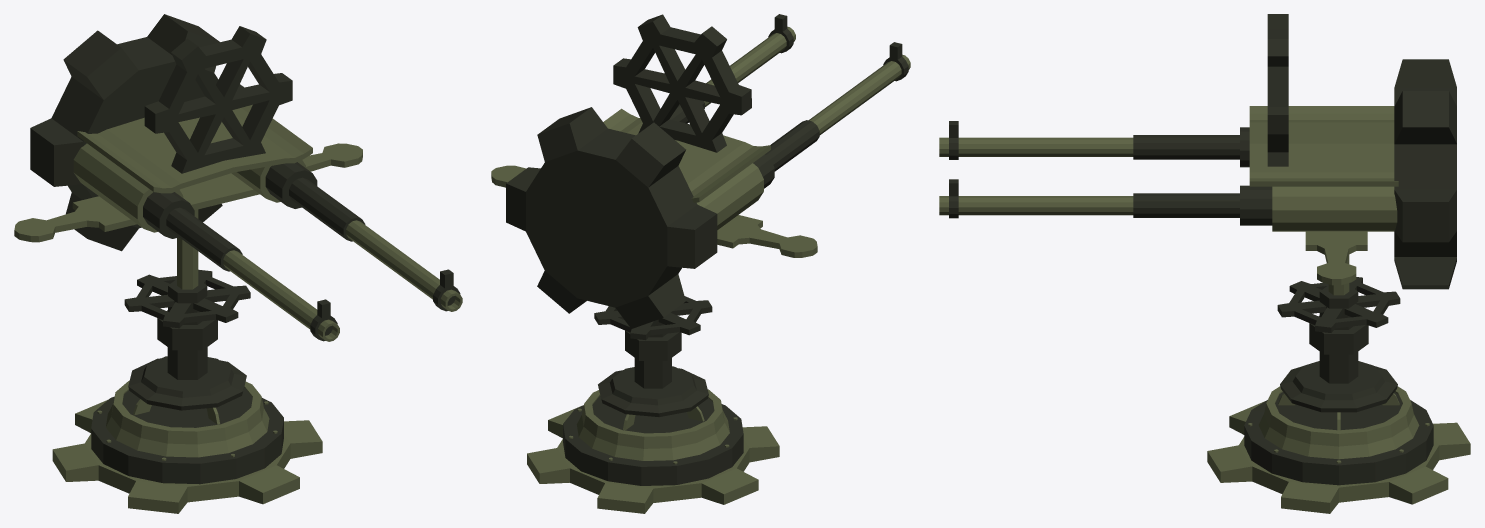
File: turret-pkm.glb
3 views of the same model, side by side, from view 1: azimuth 30°, elevation 25°; view 2: azimuth 150°, elevation 25°; view 3: azimuth 270°, elevation 25° (orthographic). The views are drawn at different scales.
Visible parts, largest first — view 1: gun, base, mid; view 2: gun, base, mid; view 3: gun, base, mid.
Boxes of the visible parts, x1,y1,x2,y2 form: gun: [14, 14, 462, 341]; base: [52, 356, 322, 513]; mid: [124, 209, 250, 379]; gun: [491, 14, 910, 328]; base: [527, 366, 779, 513]; mid: [594, 296, 712, 388]; gun: [939, 14, 1456, 289]; base: [1207, 361, 1470, 513]; mid: [1277, 255, 1400, 383].
Bounding box in the file's own units: 2.02 × 2.51 × 2.78.
